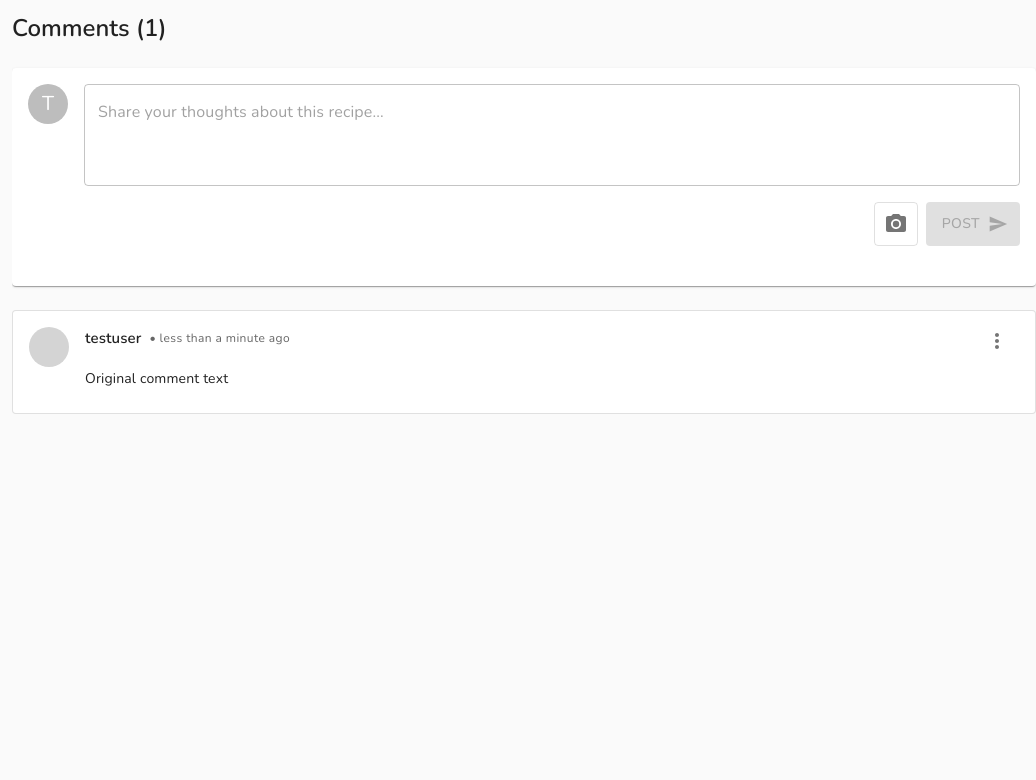
Test case: CommentsSection Component › Edit and Delete Comments › should enter edit mode when clicking edit button
Expected: the text "Original comment text" is shown, [85,369,228,388]
Click the button without text in the row of "less than a minute ago" at (997, 341), box [975,319,1019,363]
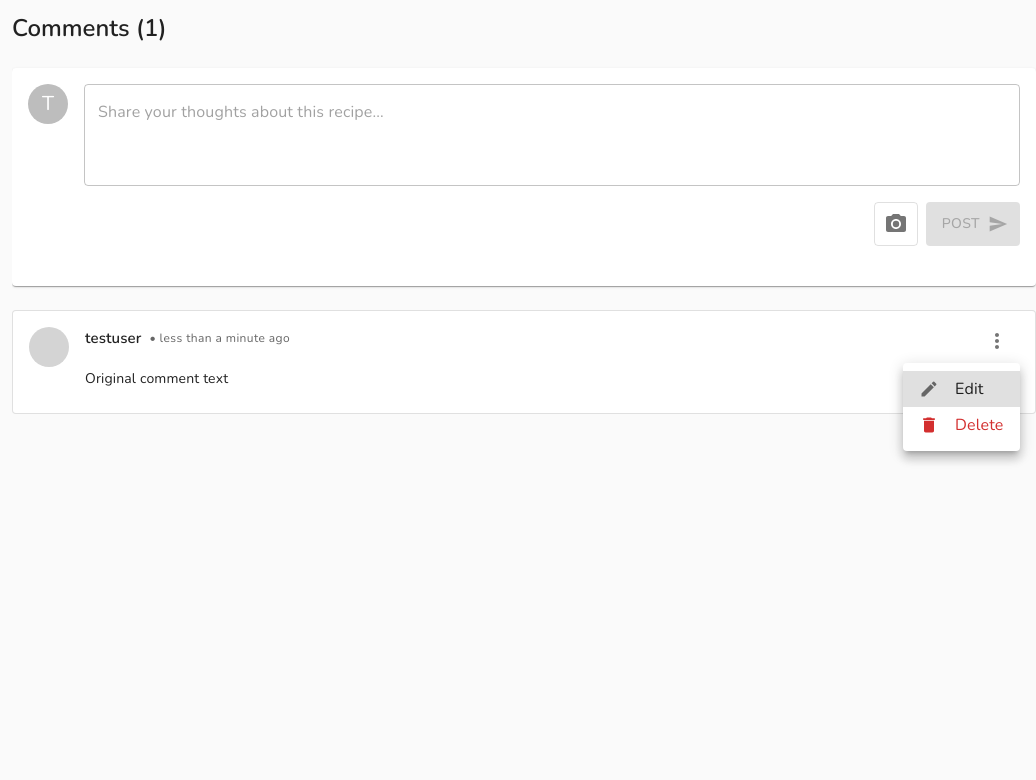
Click the menu item "Edit" at (961, 389), box [903,371,1020,407]
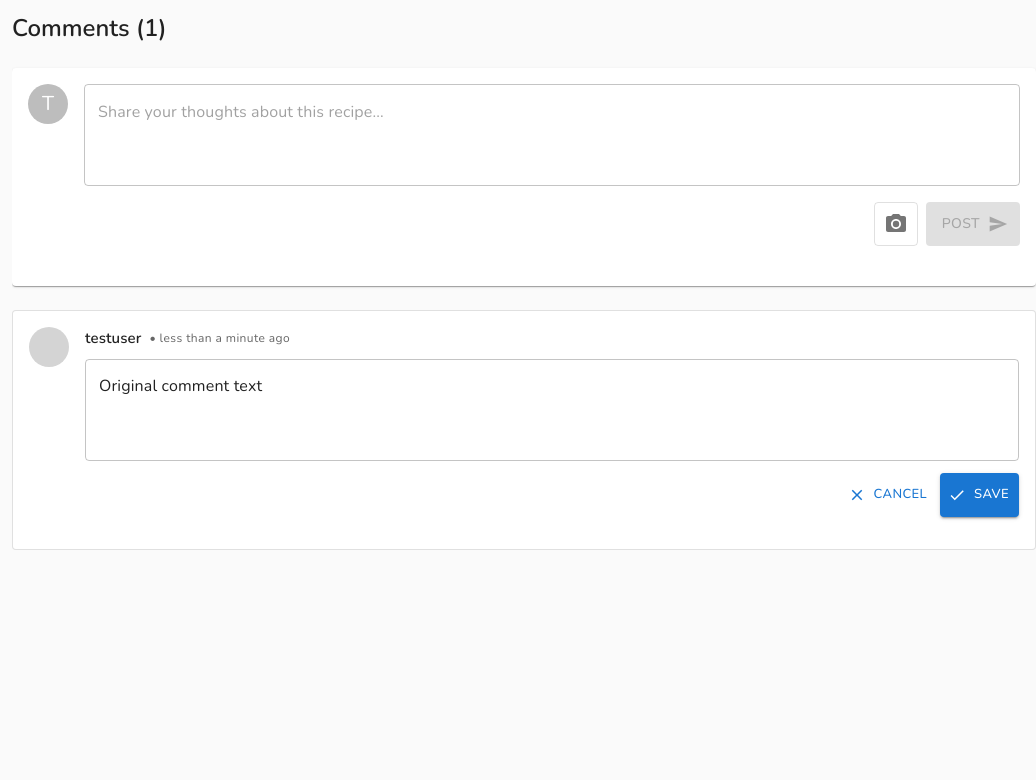
Result: the text box showing "Original comment text" is shown at [99,375,1005,444]
Result: the button "Cancel" is shown at [845,473,932,517]
Result: the button "Save" is shown at [940,473,1019,517]
